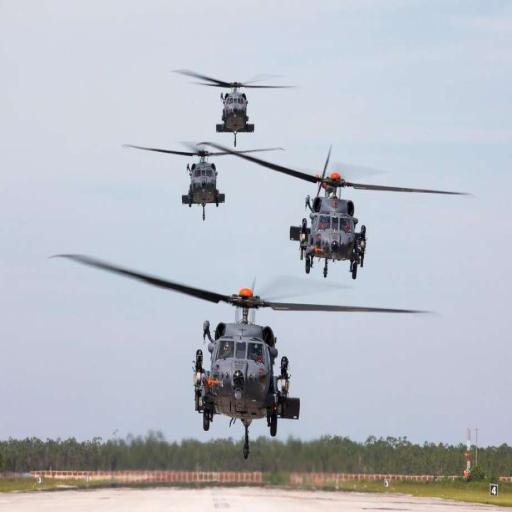helicopter: (51, 241, 443, 462), (205, 140, 474, 264), (123, 140, 289, 222), (171, 57, 302, 135)
